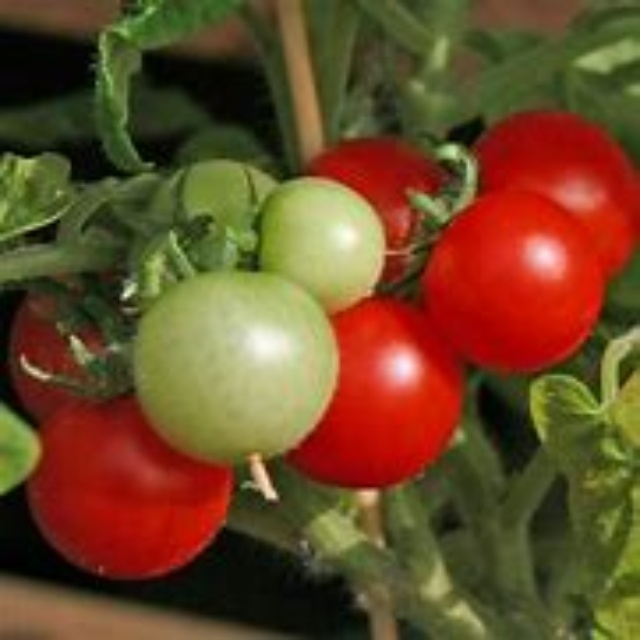tomato: (35, 399, 241, 583), (133, 282, 328, 474), (293, 313, 464, 483), (430, 199, 592, 374), (470, 111, 639, 271), (291, 131, 453, 287)
